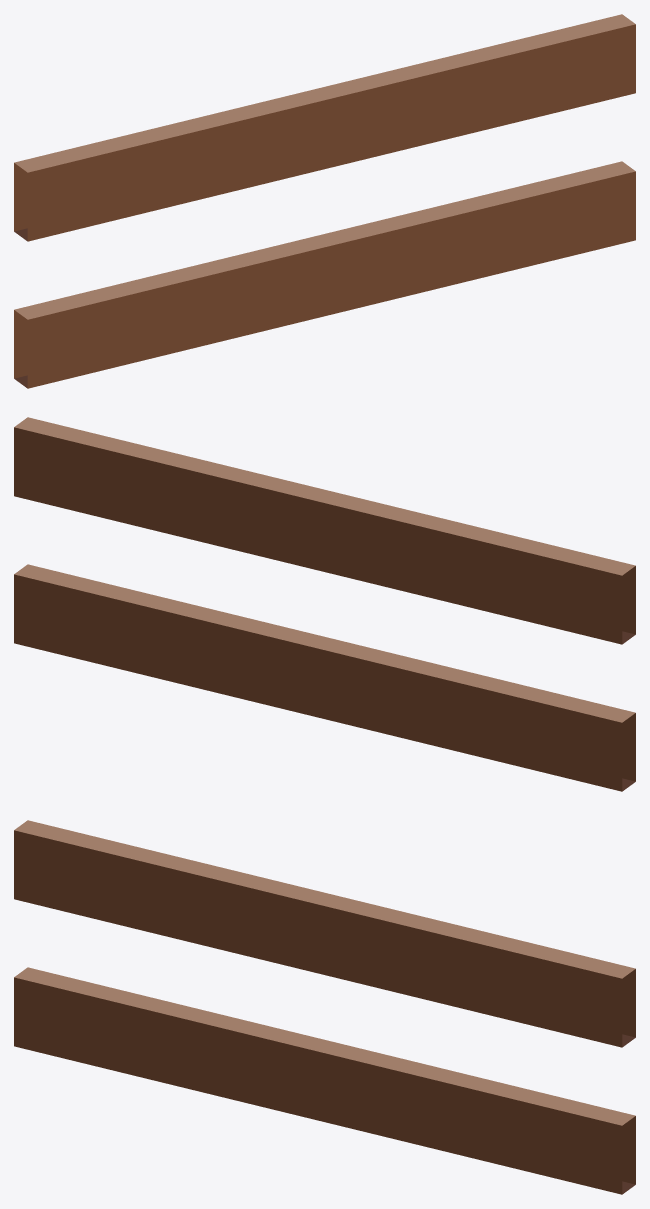
File: TB_Bd_FencePart.FBX
3 views of the same model, one above another, from view 1: azimuth 30°, elevation 25°; view 2: azimuth 150°, elevation 25°; view 3: azimuth 330°, elevation 25° (orthographic).
Parts seen in each view (by area): view 1: TB_Bd_FencePart; view 2: TB_Bd_FencePart; view 3: TB_Bd_FencePart.
Boxes of the visible parts, x1=… form: TB_Bd_FencePart: x1=14, y1=14, x2=635, y2=388; TB_Bd_FencePart: x1=14, y1=417, x2=635, y2=791; TB_Bd_FencePart: x1=14, y1=820, x2=635, y2=1194.
Size of the model in its own units: 2.59 by 0.8794 by 0.1017.
